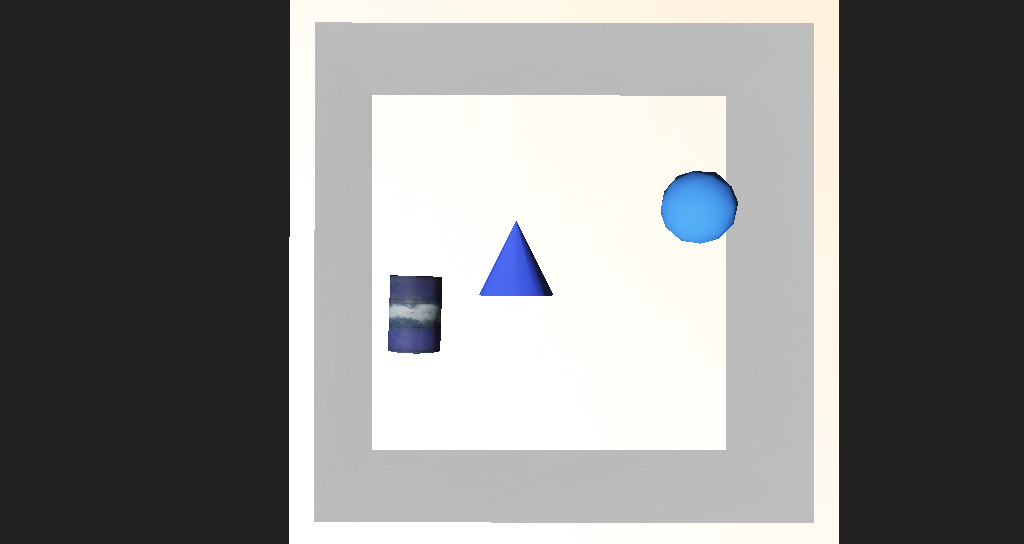cone: (364, 267, 418, 315)
cylinder: (448, 234, 509, 282)
sphere: (603, 205, 664, 253)
